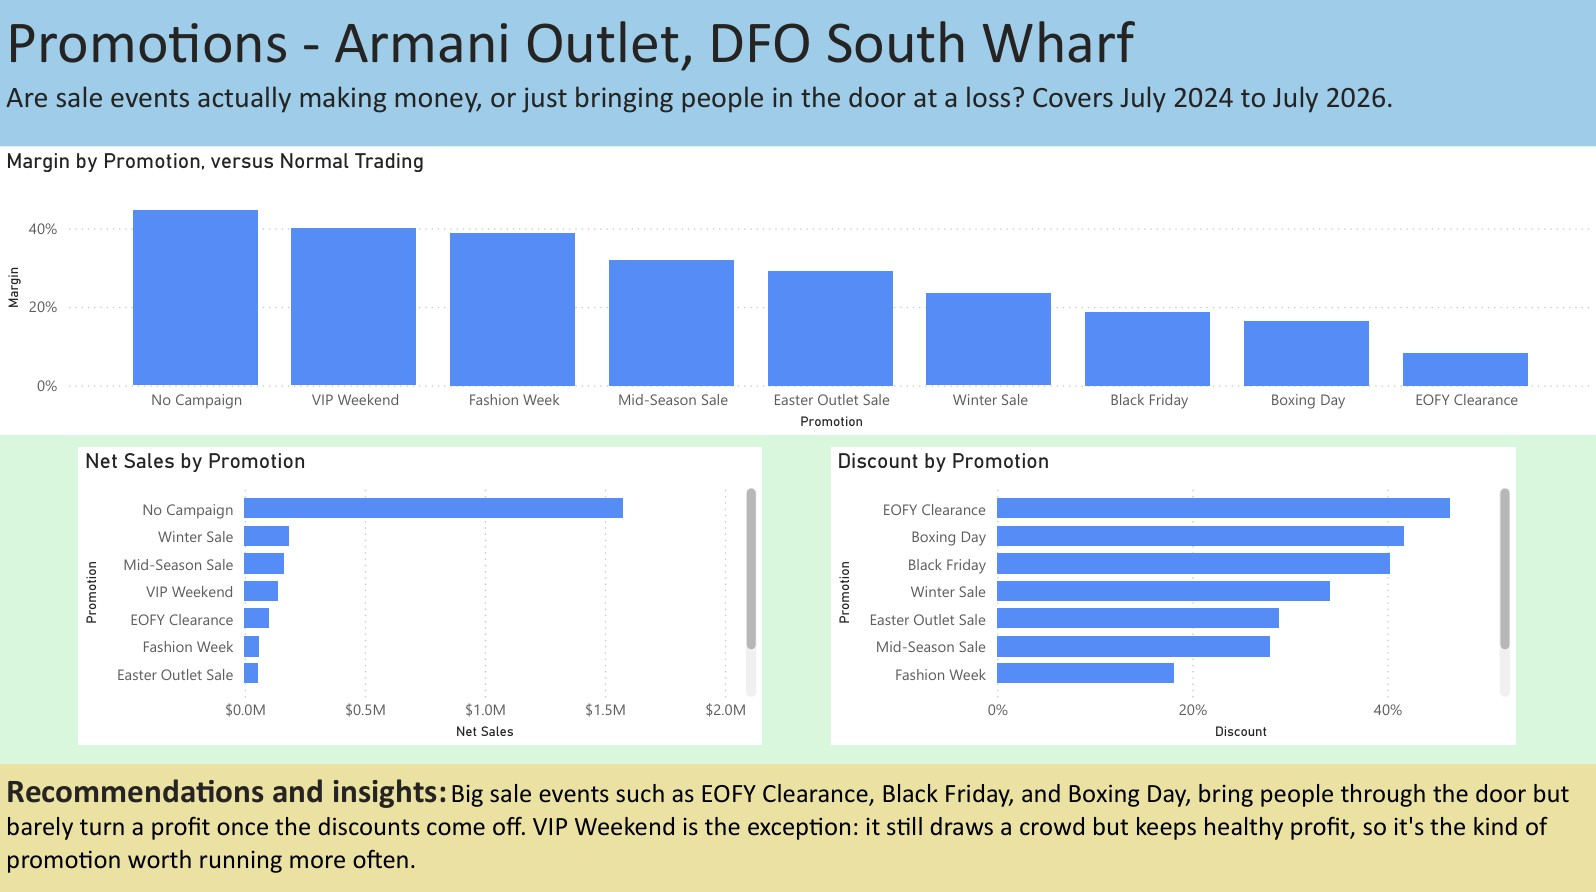

The dashboard page shown, as its layout file describes it:
{"tool":"powerbi","page":{"name":"Promotions","canvas":[1280,720],"ordinal":2},"visuals":[{"type":"textbox","box":[0,0,1280.3,119.3],"z":0},{"type":"clusteredColumnChart","title":"Margin by Promotion, versus Normal Trading","fields":{"Y":["Measure.Margin"],"Category":["Promotion.Promotion"]},"box":[0,119.8,1280.2,230.2],"z":1000},{"type":"clusteredBarChart","fields":{"Y":["Measure.Net Sales"],"Category":["Promotion.Promotion"]},"box":[62.8,360.5,547.7,237.2],"z":2000},{"type":"textbox","box":[0,613.1,1280.3,106.9],"z":3000},{"type":"clusteredBarChart","fields":{"Category":["Promotion.Promotion"],"Y":["Measure.Discount"]},"box":[665.1,360.5,547.7,237.2],"z":4000}]}

Visuals, with their boxes in screenshot pixels (x1, y1, x2, y2), scaled from the page's 1280x720 canvas onto the 1596x892 screenshot:
textbox: 0:0:1595:148
"Margin by Promotion, versus Normal Trading" clusteredColumnChart: 0:148:1595:434
clusteredBarChart - Measure.Net Sales x Promotion.Promotion: 78:447:761:740
textbox: 0:760:1595:891
clusteredBarChart - Promotion.Promotion x Measure.Discount: 829:447:1512:740
